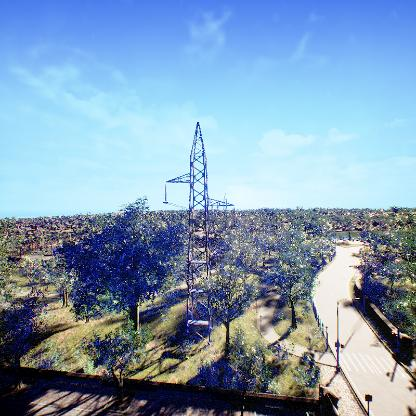tower: (156, 119, 240, 347)
